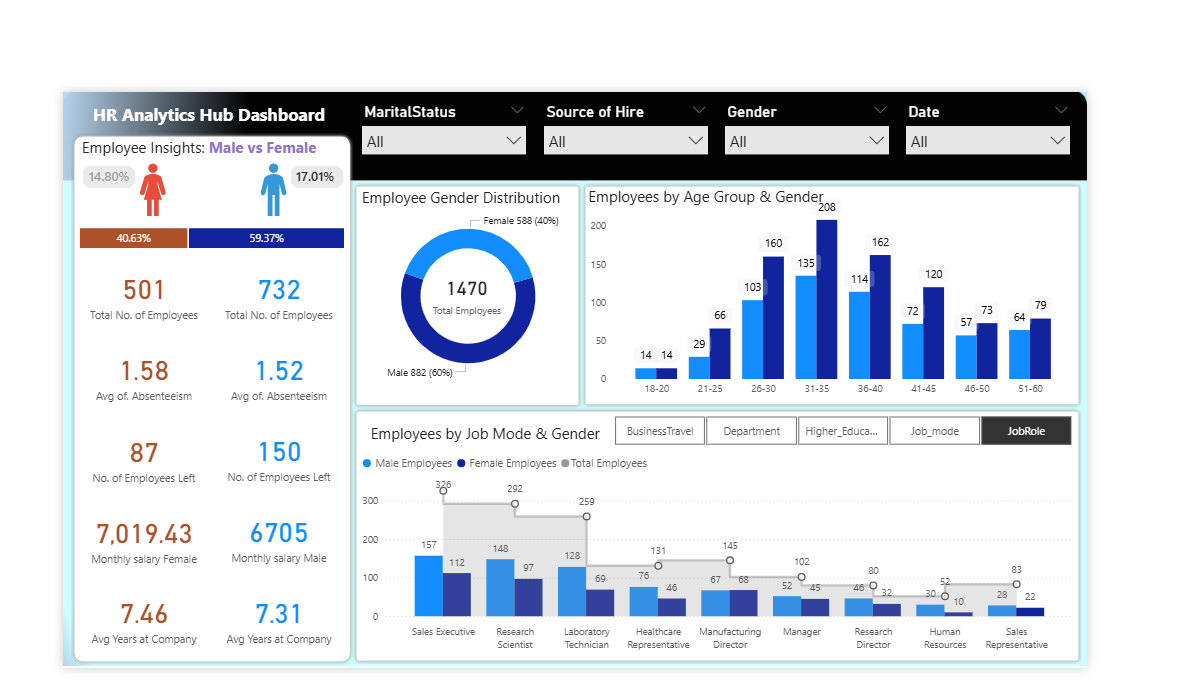

This screenshot's page, from the dashboard's own definition file:
{"tool":"powerbi","page":{"name":"Overview","canvas":[1280,720],"ordinal":0},"visuals":[{"type":"shape","box":[10.3,51.4,352.9,664.7],"z":0},{"type":"pivotTable","fields":{"Values":["Measure_Table.Master Icon"],"Columns":["hr_data.Gender"]},"box":[21.6,60.7,330.3,107],"z":1000},{"type":"card","fields":{"Values":["Measure_Table.Female Attrition Rate"]},"box":[22,92,70,30],"z":2000},{"type":"shape","box":[22,90,70,32],"z":3000},{"type":"hundredPercentStackedBarChart","fields":{"Y":["Measure_Table.Current Female Employees","Measure_Table.Current Male Employees"]},"box":[21.6,137.9,330.3,82.3],"z":4000},{"type":"card","fields":{"Values":["Measure_Table.Current Female Employees"]},"box":[19,202.7,165,100],"z":5000},{"type":"card","fields":{"Values":["Measure_Table.Current Male Employees"]},"box":[188,203,165,100],"z":6000},{"type":"card","fields":{"Values":["Measure_Table.Avg Absenteeism Female"]},"box":[19,304.3,165,100],"z":7000},{"type":"card","fields":{"Values":["Measure_Table.Avg Absenteeism Male"]},"box":[188,304,165,100],"z":8000},{"type":"card","fields":{"Values":["Measure_Table.Left Female"]},"box":[19,405.9,165,100],"z":9000},{"type":"card","fields":{"Values":["Measure_Table.Left Male"]},"box":[188,405,165,100],"z":10000},{"type":"card","fields":{"Values":["Measure_Table.Monthly salary Female"]},"box":[19,507.4,165,100],"z":11000},{"type":"card","fields":{"Values":["Measure_Table.Monthly salary Male"]},"box":[188,506,165,100],"z":12000},{"type":"shape","box":[282,90,70,32],"z":13000},{"type":"card","fields":{"Values":["Measure_Table.Male Attrition Rate"]},"box":[280,92,70,30],"z":14000},{"type":"card","fields":{"Values":["Measure_Table.Avg Years at Company Female"]},"box":[19,607,165,100],"z":15000},{"type":"card","fields":{"Values":["Measure_Table.Avg Years at Company Male"]},"box":[188,607,165,100],"z":16000},{"type":"textbox","box":[19,51,311,35],"z":17000},{"type":"textbox","box":[7.1,8.6,350,40],"z":18000},{"type":"shape","box":[362.7,113.6,286.4,281.8],"z":19000},{"type":"shape","box":[648.9,113.3,625,281.1],"z":20000},{"type":"donutChart","fields":{"Category":["hr_data.Gender"],"Y":["Measure_Table.Total Employees"]},"box":[368.2,120,275.5,270],"z":21000},{"type":"card","fields":{"Values":["Measure_Table.Total Employees"]},"box":[440.5,217.9,129.8,69],"z":22000},{"type":"clusteredColumnChart","fields":{"Category":["hr_data.Age-Group"],"Y":["Measure_Table.Total Employees"],"Series":["hr_data.Gender"]},"box":[654,119,614,270],"z":23000},{"type":"shape","box":[362.5,395,911.2,320],"z":24000},{"type":"slicer","fields":{"Values":["PrmContent.PrmContent"]},"box":[671.4,403.6,608.3,39.3],"z":25000},{"type":"lineClusteredColumnComboChart","fields":{"Category":["hr_data.JobRole"],"Y":["Measure_Table.Current Male Employees","Measure_Table.Current Female Employees"],"Y2":["Measure_Table.Total Employees"]},"box":[368.6,444.3,900,262.9],"z":26000},{"type":"slicer","fields":{"Values":["hr_data.Source_of_Hire"]},"box":[591,8.6,225,84.3],"z":27000},{"type":"slicer","fields":{"Values":["hr_data.Gender"]},"box":[817.6,8.6,225,84.3],"z":28000},{"type":"slicer","fields":{"Values":["hr_data.MaritalStatus"]},"box":[364.3,8.6,225,85],"z":29000},{"type":"slicer","fields":{"Values":["DimDate.Date"]},"box":[1044.3,8.6,225,84.3],"z":30000},{"type":"textbox","box":[363,114,270,35],"z":31000},{"type":"textbox","box":[646,113,315,41],"z":32000},{"type":"textbox","box":[369,408.3,313.1,35.7],"z":33000}]}

Visuals, with their boxes on the page's 1280x720 design canvas (x1, y1, x2, y2). These are canvas units, not pixel positions in the 1182x698 screenshot, which may show the page scaled, cropped or inside an application window:
shape: [left=10, top=51, right=363, bottom=716]
pivotTable - Measure_Table.Master Icon x hr_data.Gender: [left=22, top=61, right=352, bottom=168]
card - Measure_Table.Female Attrition Rate: [left=22, top=92, right=92, bottom=122]
shape: [left=22, top=90, right=92, bottom=122]
hundredPercentStackedBarChart - Measure_Table.Current Female Employees x Measure_Table.Current Male Employees: [left=22, top=138, right=352, bottom=220]
card - Measure_Table.Current Female Employees: [left=19, top=203, right=184, bottom=303]
card - Measure_Table.Current Male Employees: [left=188, top=203, right=353, bottom=303]
card - Measure_Table.Avg Absenteeism Female: [left=19, top=304, right=184, bottom=404]
card - Measure_Table.Avg Absenteeism Male: [left=188, top=304, right=353, bottom=404]
card - Measure_Table.Left Female: [left=19, top=406, right=184, bottom=506]
card - Measure_Table.Left Male: [left=188, top=405, right=353, bottom=505]
card - Measure_Table.Monthly salary Female: [left=19, top=507, right=184, bottom=607]
card - Measure_Table.Monthly salary Male: [left=188, top=506, right=353, bottom=606]
shape: [left=282, top=90, right=352, bottom=122]
card - Measure_Table.Male Attrition Rate: [left=280, top=92, right=350, bottom=122]
card - Measure_Table.Avg Years at Company Female: [left=19, top=607, right=184, bottom=707]
card - Measure_Table.Avg Years at Company Male: [left=188, top=607, right=353, bottom=707]
textbox: [left=19, top=51, right=330, bottom=86]
textbox: [left=7, top=9, right=357, bottom=49]
shape: [left=363, top=114, right=649, bottom=395]
shape: [left=649, top=113, right=1274, bottom=394]
donutChart - hr_data.Gender x Measure_Table.Total Employees: [left=368, top=120, right=644, bottom=390]
card - Measure_Table.Total Employees: [left=440, top=218, right=570, bottom=287]
clusteredColumnChart - hr_data.Age-Group x Measure_Table.Total Employees: [left=654, top=119, right=1268, bottom=389]
shape: [left=362, top=395, right=1274, bottom=715]
slicer - PrmContent.PrmContent: [left=671, top=404, right=1280, bottom=443]
lineClusteredColumnComboChart - hr_data.JobRole x Measure_Table.Current Male Employees: [left=369, top=444, right=1269, bottom=707]
slicer - hr_data.Source_of_Hire: [left=591, top=9, right=816, bottom=93]
slicer - hr_data.Gender: [left=818, top=9, right=1043, bottom=93]
slicer - hr_data.MaritalStatus: [left=364, top=9, right=589, bottom=94]
slicer - DimDate.Date: [left=1044, top=9, right=1269, bottom=93]
textbox: [left=363, top=114, right=633, bottom=149]
textbox: [left=646, top=113, right=961, bottom=154]
textbox: [left=369, top=408, right=682, bottom=444]
